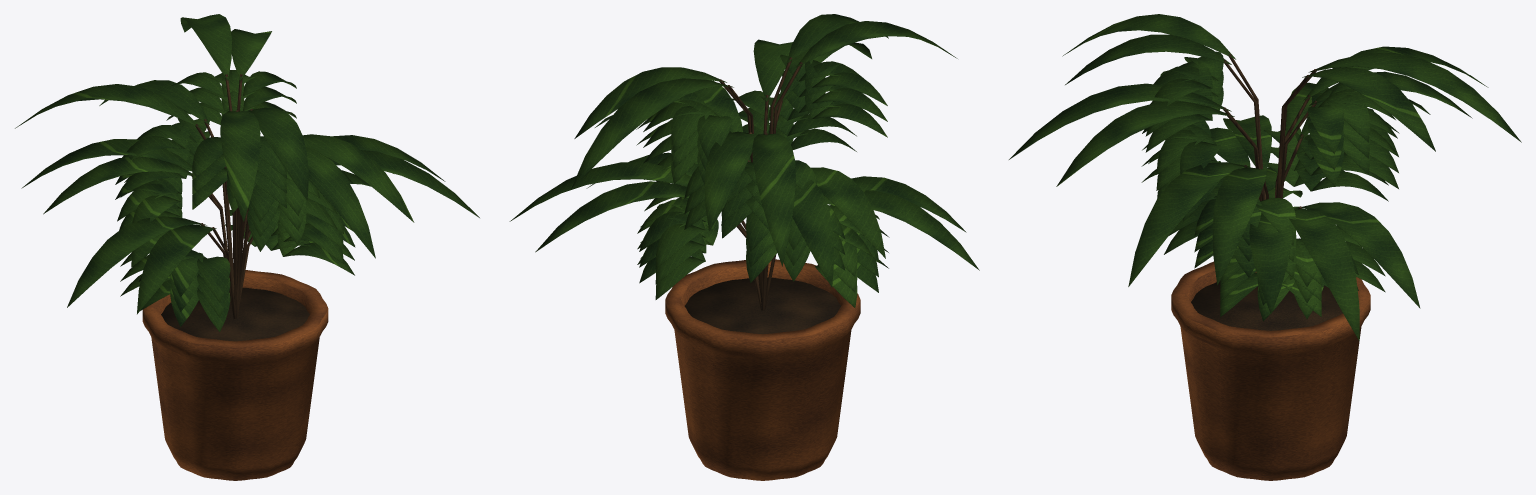
The model's file is FernPlanter.fbx.
3 views of the same model, side by side, from view 1: azimuth 30°, elevation 25°; view 2: azimuth 150°, elevation 25°; view 3: azimuth 270°, elevation 25° (orthographic). The views are drawn at different scales.
Visible parts, largest first — view 1: FernPlanter_Leaf, FernPlanter_Copper, FernPlanter_Soil, FernPlanter_Bark; view 2: FernPlanter_Leaf, FernPlanter_Copper, FernPlanter_Soil, FernPlanter_Bark; view 3: FernPlanter_Leaf, FernPlanter_Copper, FernPlanter_Soil, FernPlanter_Bark.
Boxes of the visible parts, <box> form: FernPlanter_Leaf: <box>15,14,479,331</box>; FernPlanter_Copper: <box>142,270,328,480</box>; FernPlanter_Soil: <box>161,287,309,341</box>; FernPlanter_Bark: <box>191,74,253,318</box>; FernPlanter_Leaf: <box>509,14,979,307</box>; FernPlanter_Copper: <box>665,259,860,480</box>; FernPlanter_Soil: <box>684,277,840,334</box>; FernPlanter_Bark: <box>719,57,802,310</box>; FernPlanter_Leaf: <box>1009,14,1521,340</box>; FernPlanter_Copper: <box>1171,261,1370,480</box>; FernPlanter_Soil: <box>1191,281,1342,330</box>; FernPlanter_Bark: <box>1223,54,1316,209</box>.
Size of the model in its own units: 122 by 114 by 131.
